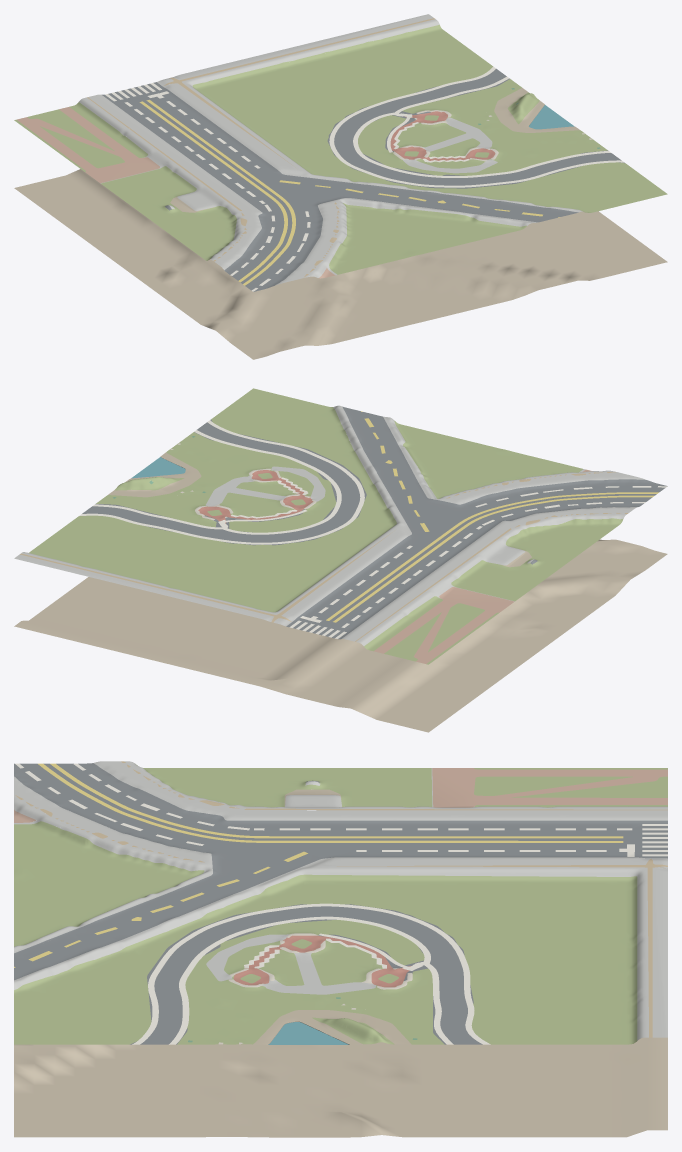
3 renders of one model, top to bottom at view 1: azimuth 30°, elevation 25°; view 2: azimuth 150°, elevation 25°; view 3: azimuth 270°, elevation 25°, orthographic. The views are drawn at different scales.
Parts seen in each view (by area): view 1: s_-9_1__grass, s_-9_1__soil, s_-9_1__asphalt, s_-9_1__stone_paving, s_-9_1__white_marking, s_-9_1__brick_paving, s_-9_1__yellow_marking, s_-9_1__timber_deck, s_-9_1__red_court, s_-9_1__water; view 2: s_-9_1__grass, s_-9_1__soil, s_-9_1__asphalt, s_-9_1__stone_paving, s_-9_1__white_marking, s_-9_1__brick_paving, s_-9_1__yellow_marking, s_-9_1__timber_deck, s_-9_1__red_court, s_-9_1__water; view 3: s_-9_1__grass, s_-9_1__soil, s_-9_1__asphalt, s_-9_1__stone_paving, s_-9_1__white_marking, s_-9_1__brick_paving, s_-9_1__yellow_marking, s_-9_1__timber_deck, s_-9_1__red_court, s_-9_1__water, s_-9_1__paving.
Boxes of the visible parts, x1=… form: s_-9_1__grass: x1=14, y1=24, x2=667, y2=274; s_-9_1__soil: x1=14, y1=88, x2=667, y2=359; s_-9_1__asphalt: x1=102, y1=68, x2=624, y2=291; s_-9_1__stone_paving: x1=79, y1=14, x2=582, y2=285; s_-9_1__white_marking: x1=105, y1=66, x2=624, y2=291; s_-9_1__brick_paving: x1=17, y1=107, x2=335, y2=278; s_-9_1__yellow_marking: x1=139, y1=99, x2=559, y2=285; s_-9_1__timber_deck: x1=87, y1=18, x2=434, y2=277; s_-9_1__red_court: x1=390, y1=111, x2=495, y2=160; s_-9_1__water: x1=529, y1=105, x2=574, y2=129; s_-9_1__grass: x1=29, y1=388, x2=623, y2=664; s_-9_1__soil: x1=14, y1=452, x2=667, y2=732; s_-9_1__asphalt: x1=82, y1=406, x2=667, y2=639; s_-9_1__stone_paving: x1=14, y1=405, x2=645, y2=645; s_-9_1__white_marking: x1=79, y1=420, x2=667, y2=638; s_-9_1__brick_paving: x1=374, y1=469, x2=592, y2=663; s_-9_1__yellow_marking: x1=326, y1=411, x2=658, y2=622; s_-9_1__timber_deck: x1=20, y1=472, x2=628, y2=641; s_-9_1__red_court: x1=198, y1=470, x2=313, y2=523; s_-9_1__water: x1=131, y1=457, x2=185, y2=478; s_-9_1__grass: x1=14, y1=764, x2=667, y2=1044; s_-9_1__soil: x1=14, y1=789, x2=667, y2=1137; s_-9_1__asphalt: x1=14, y1=763, x2=667, y2=1044; s_-9_1__stone_paving: x1=14, y1=761, x2=667, y2=1040; s_-9_1__white_marking: x1=15, y1=763, x2=667, y2=1044; s_-9_1__brick_paving: x1=14, y1=768, x2=667, y2=822; s_-9_1__yellow_marking: x1=14, y1=763, x2=623, y2=967; s_-9_1__timber_deck: x1=15, y1=761, x2=667, y2=1037; s_-9_1__red_court: x1=233, y1=935, x2=410, y2=987; s_-9_1__water: x1=268, y1=1022, x2=348, y2=1044; s_-9_1__paving: x1=218, y1=933, x2=412, y2=1044.
Size of the model in its own units: 128 by 22.04 by 128.
